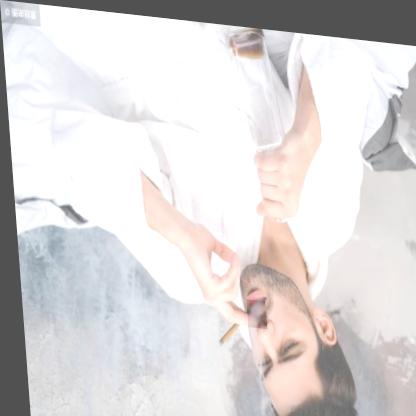smoke: (242, 293, 263, 323)
